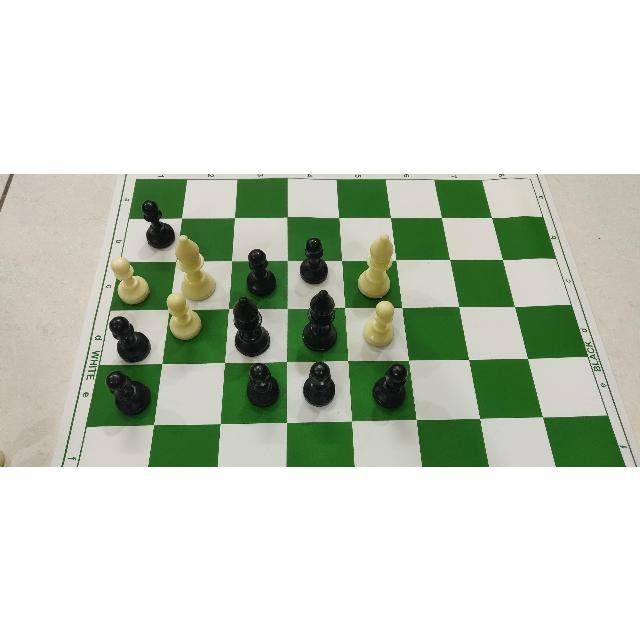black-bishop: (233, 296, 269, 356), (302, 289, 337, 350)
black-pawn: (103, 369, 150, 419), (106, 315, 152, 363), (369, 360, 409, 414), (245, 362, 283, 412), (241, 248, 279, 297), (300, 360, 336, 406), (137, 199, 171, 245), (305, 235, 335, 286)
white-bishop: (174, 234, 215, 300), (357, 233, 393, 297)
white-pawn: (358, 299, 397, 349), (109, 258, 147, 300), (162, 290, 197, 335)
